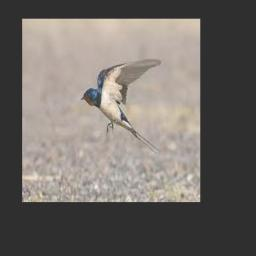Swallow: (81, 58, 161, 153)
